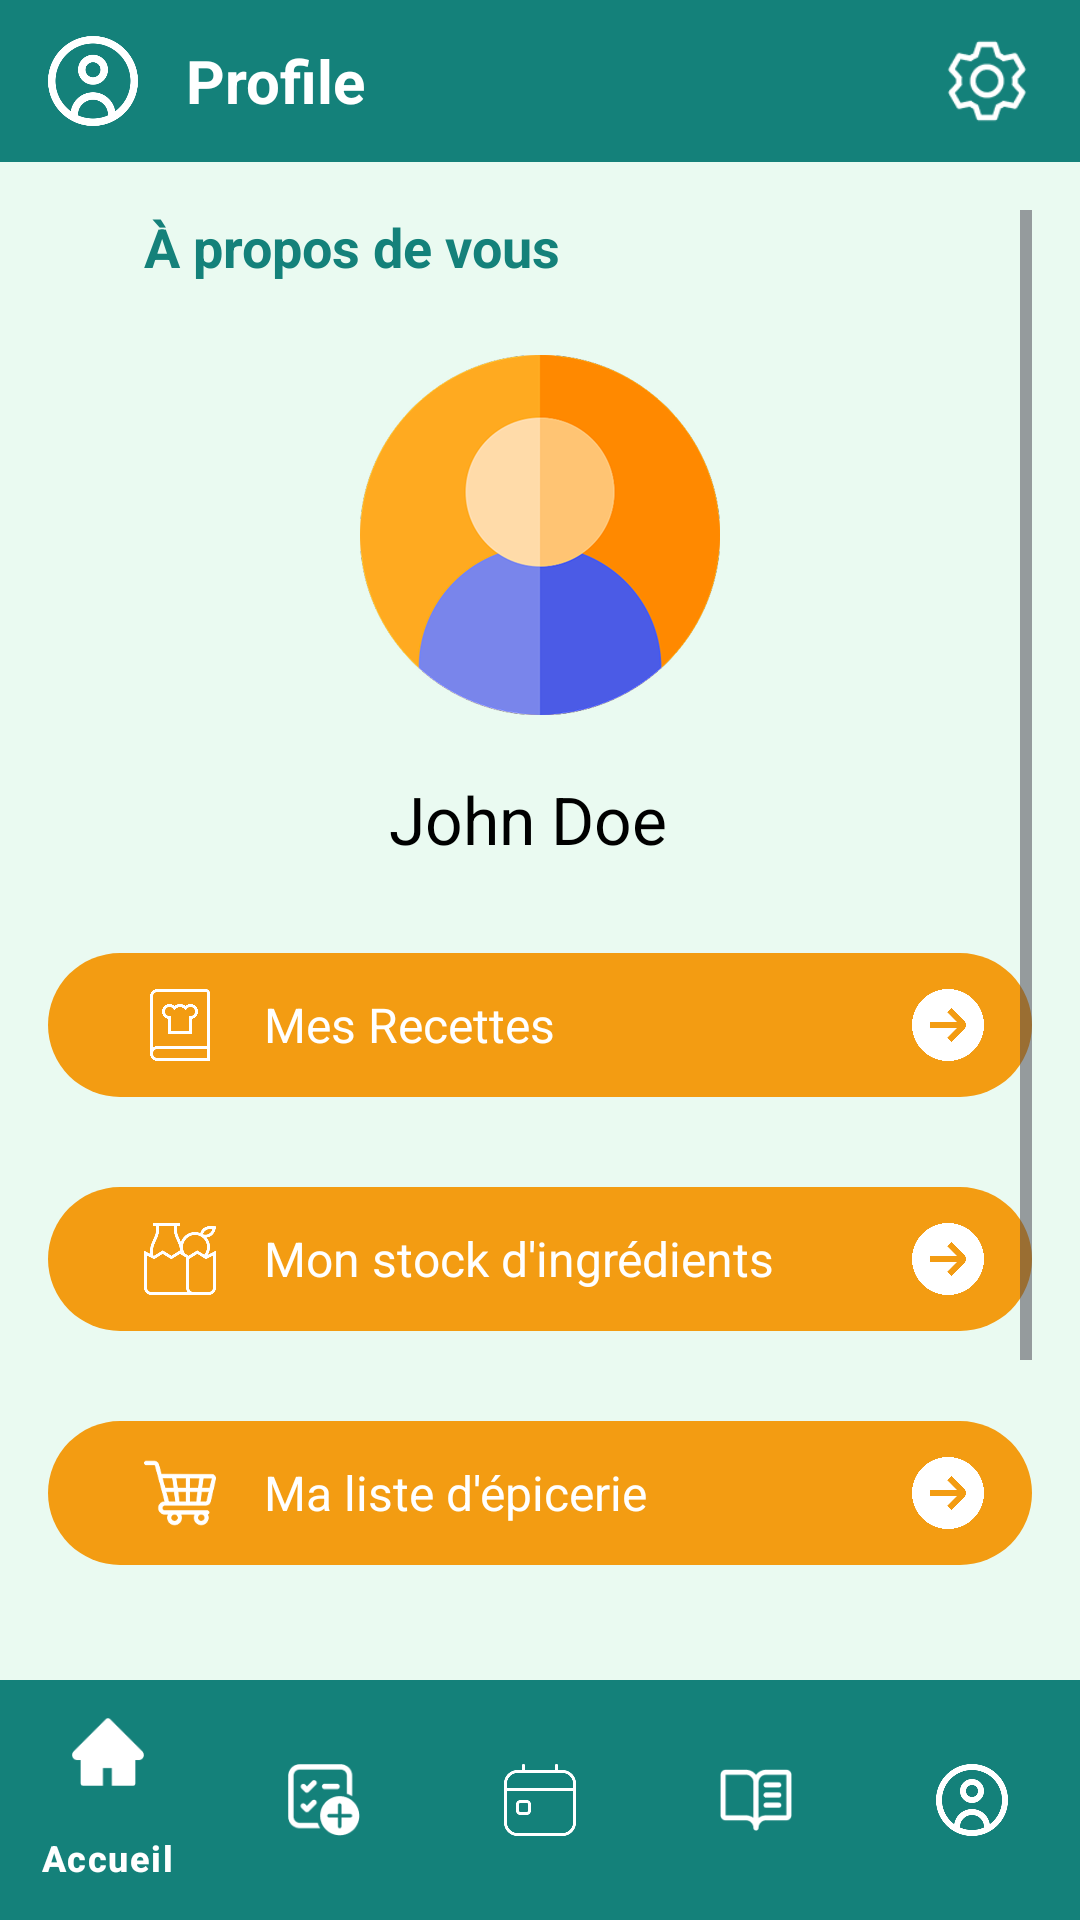

Where icons sit on this 1080x1920 app screen, as region(x1, y1, x2, y2):
arrow right: region(912, 989, 984, 1061), region(912, 1223, 984, 1295), region(912, 1457, 984, 1529)
grocery cart: region(144, 1460, 216, 1526)
Paramètres: region(948, 41, 1026, 121)
userpfp: region(360, 355, 720, 715)
